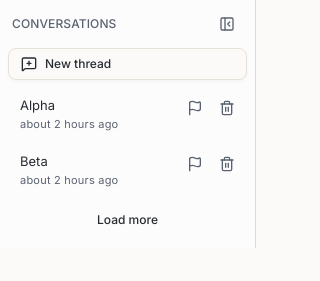
it: ThreadSidebar — list rendering (spec C5) › load-more paginates and TERMINATES on nextOffset === null
Expected: the text "Alpha" is shown, [20,97,55,113]
What coordinates should you click on to do the following:
click the button "Load more"
I would click on:
 (128, 220)
Its box is [8,204,247,236].
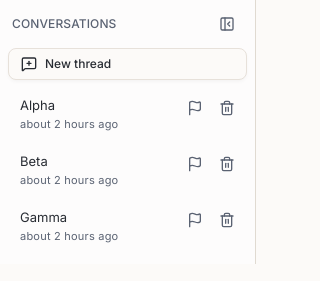
Expected: the text "Alpha" is shown, [20,97,55,113]
Now the text "Gamma" is shown, box [20,209,67,225]
Now the button "Load more" is gone
